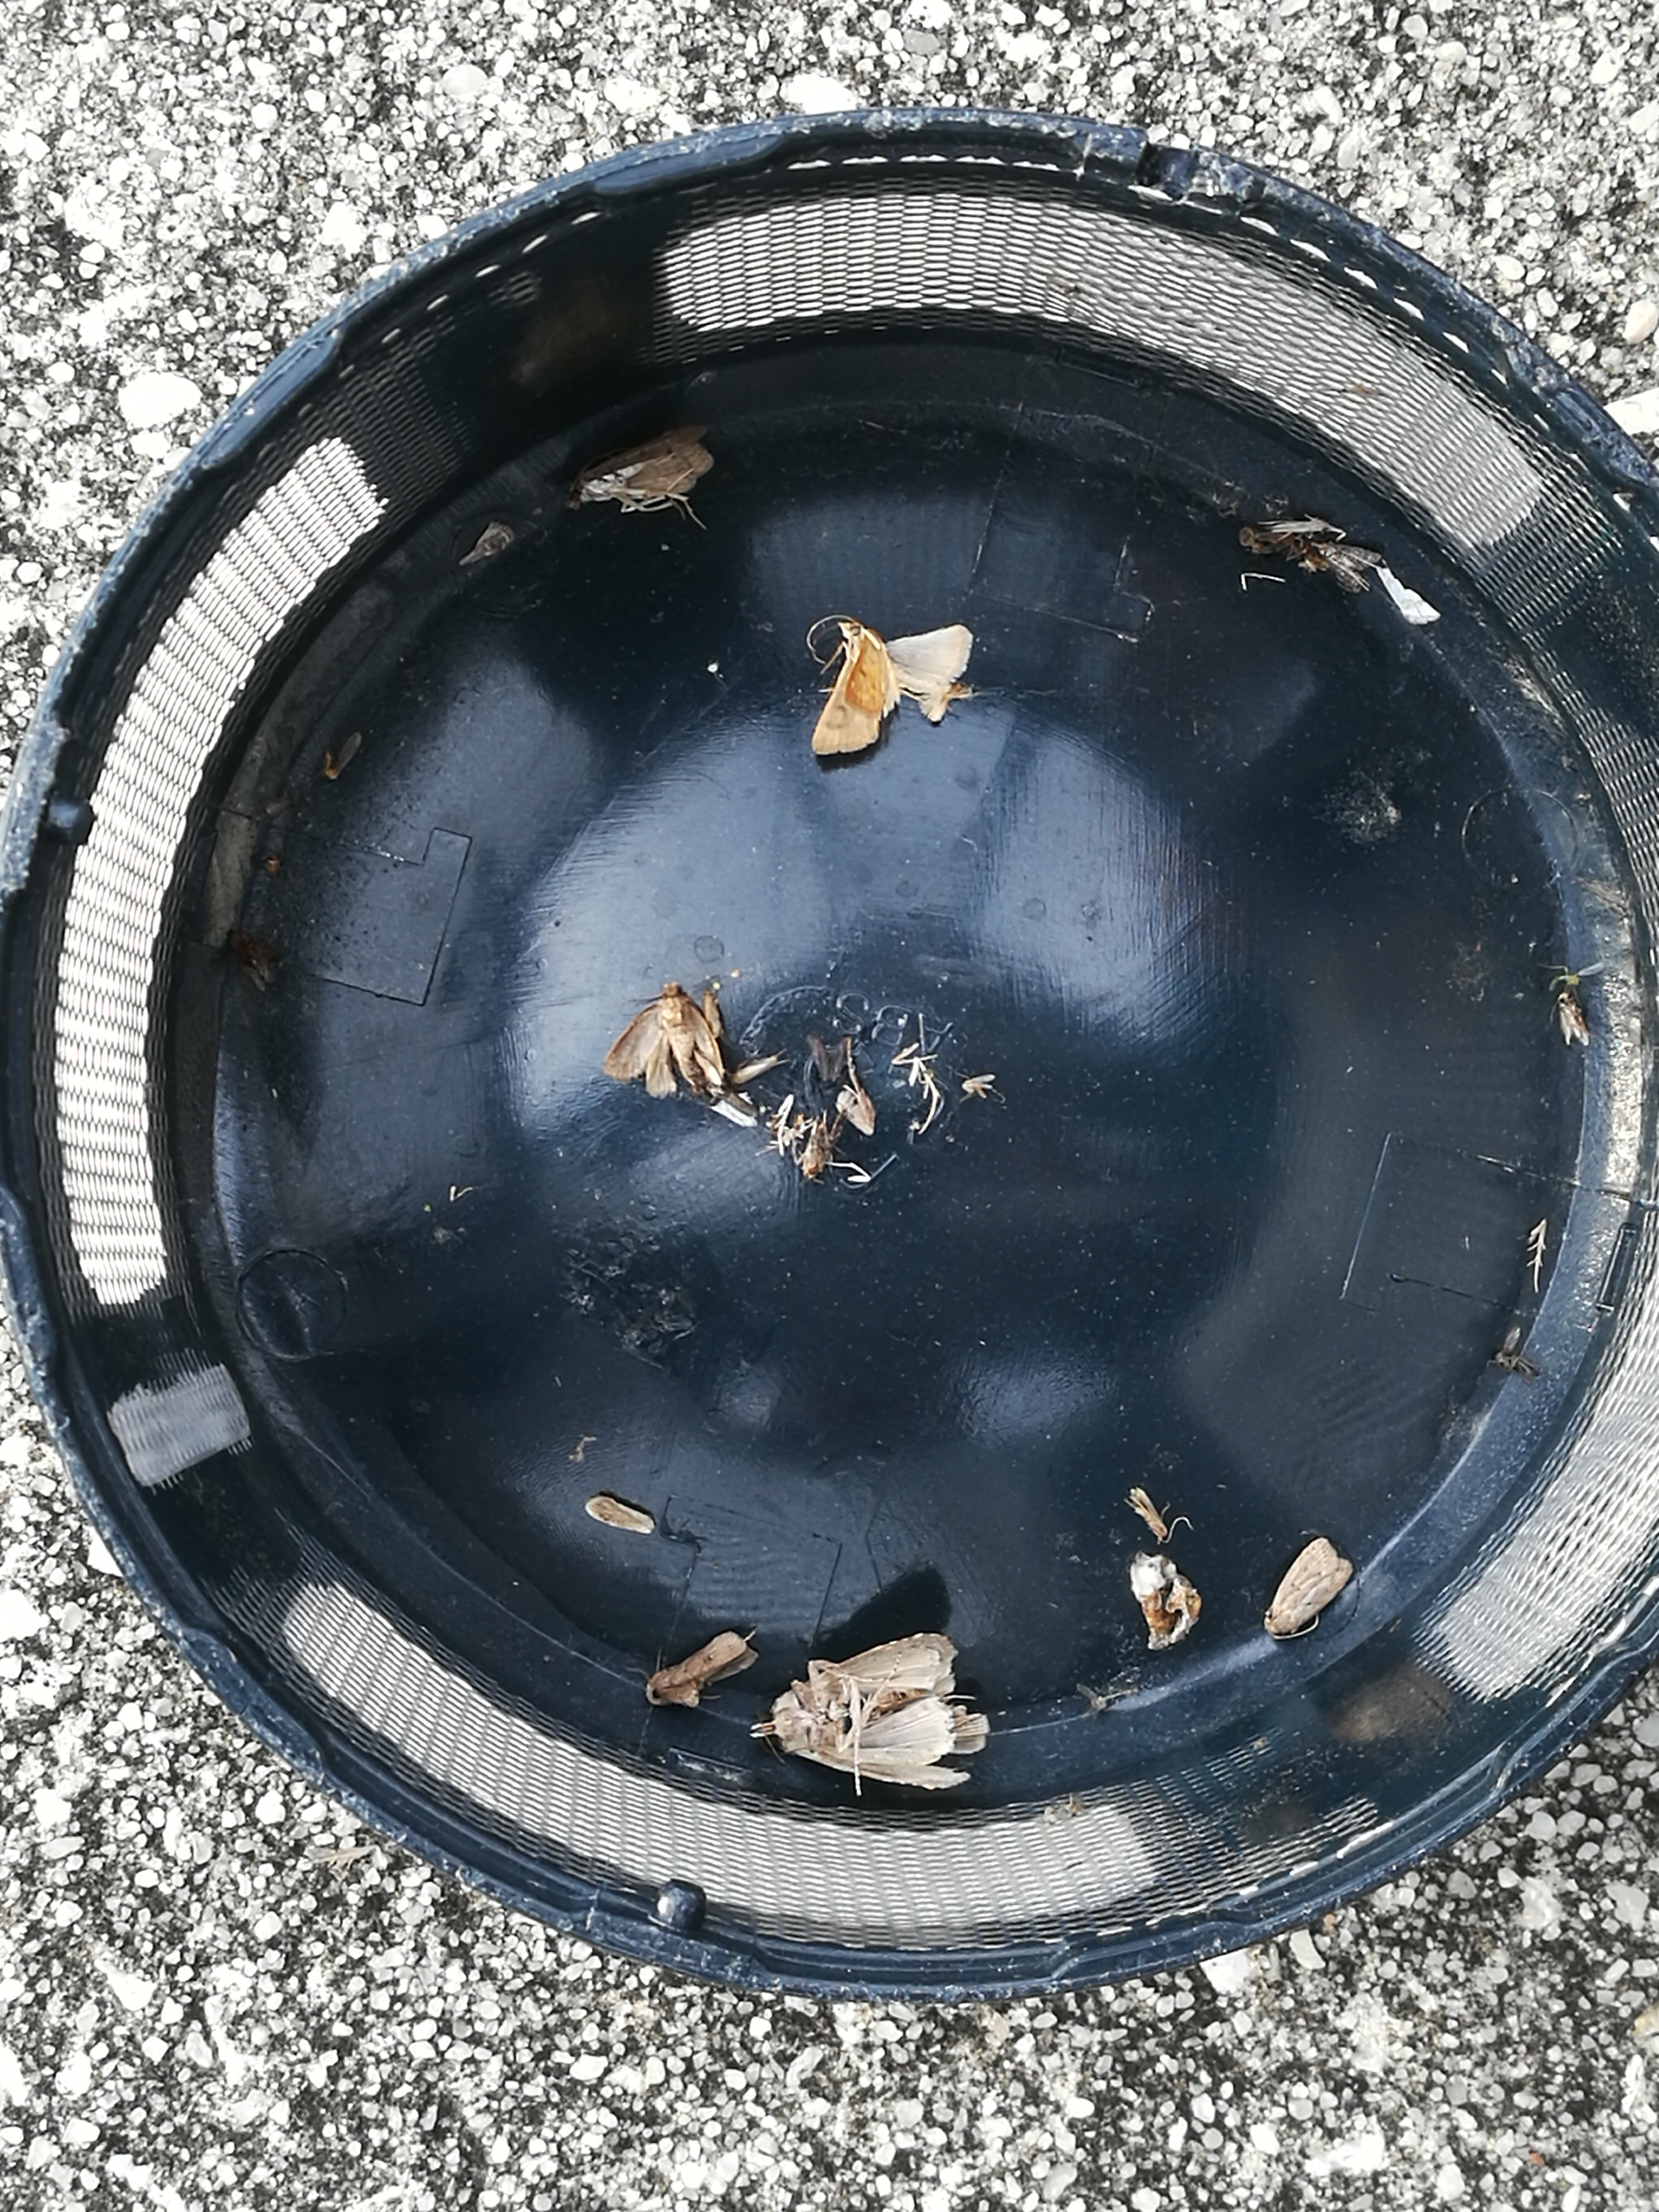moth: (775, 1637, 986, 1789), (812, 620, 969, 761), (605, 986, 721, 1097), (572, 421, 714, 509), (1265, 1538, 1354, 1637), (648, 1630, 753, 1705)
